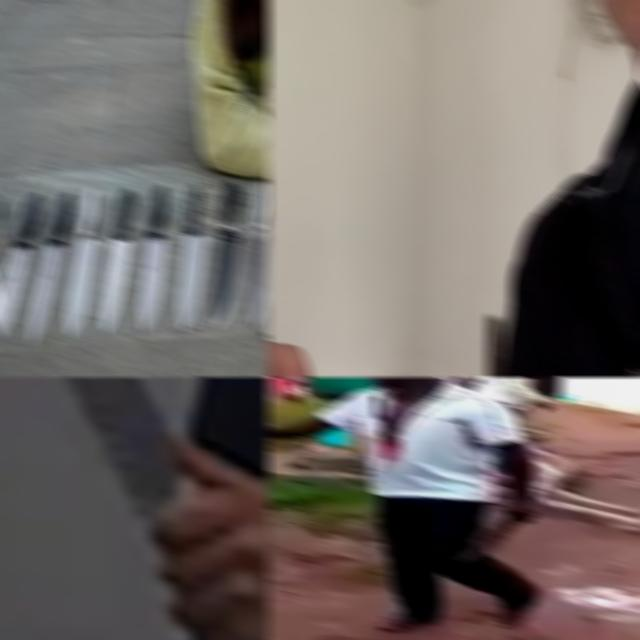Knife: (5, 376, 189, 518), (28, 193, 74, 344), (0, 194, 42, 347), (101, 188, 137, 333), (64, 188, 98, 337), (211, 180, 244, 329), (177, 184, 209, 333), (137, 185, 168, 334), (245, 180, 270, 327), (455, 516, 518, 562)
Knife_Handle: (3, 376, 270, 640), (266, 7, 345, 378), (458, 498, 542, 564)
